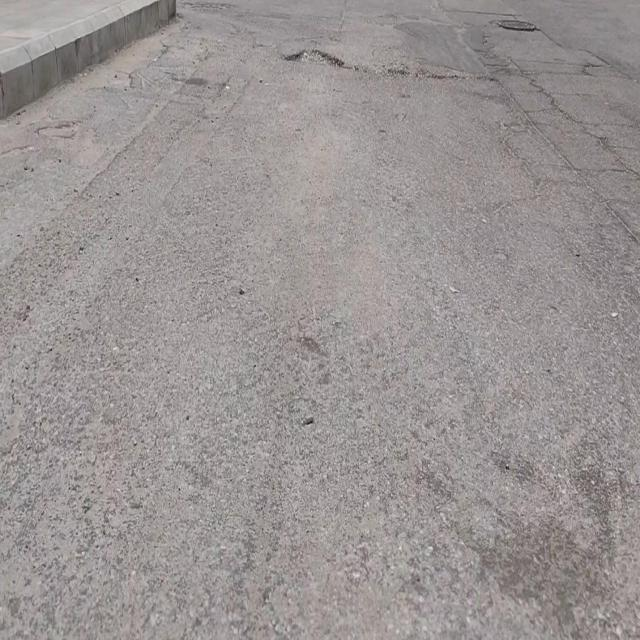Potholes: (283, 48, 345, 68)
